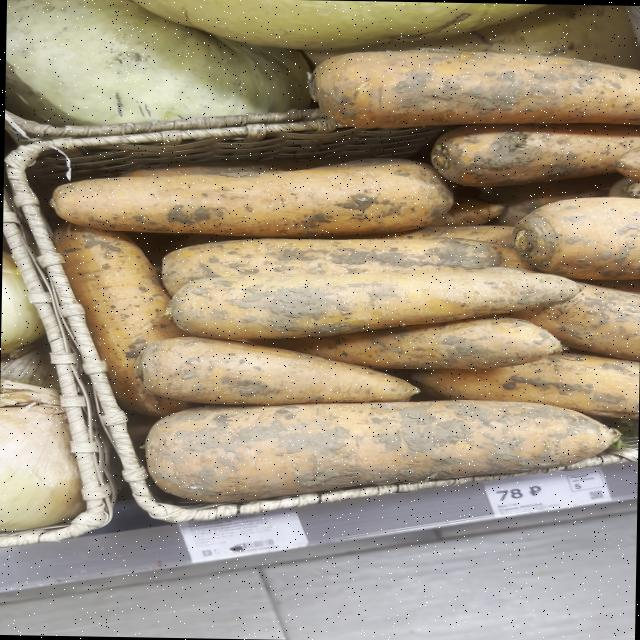carrot: (144, 400, 618, 502), (50, 158, 452, 237), (166, 267, 581, 339), (53, 223, 188, 415), (311, 51, 640, 128), (161, 237, 502, 294), (139, 337, 418, 404), (249, 315, 562, 369), (410, 353, 639, 418), (429, 123, 640, 186), (511, 196, 640, 280), (511, 283, 639, 360)
